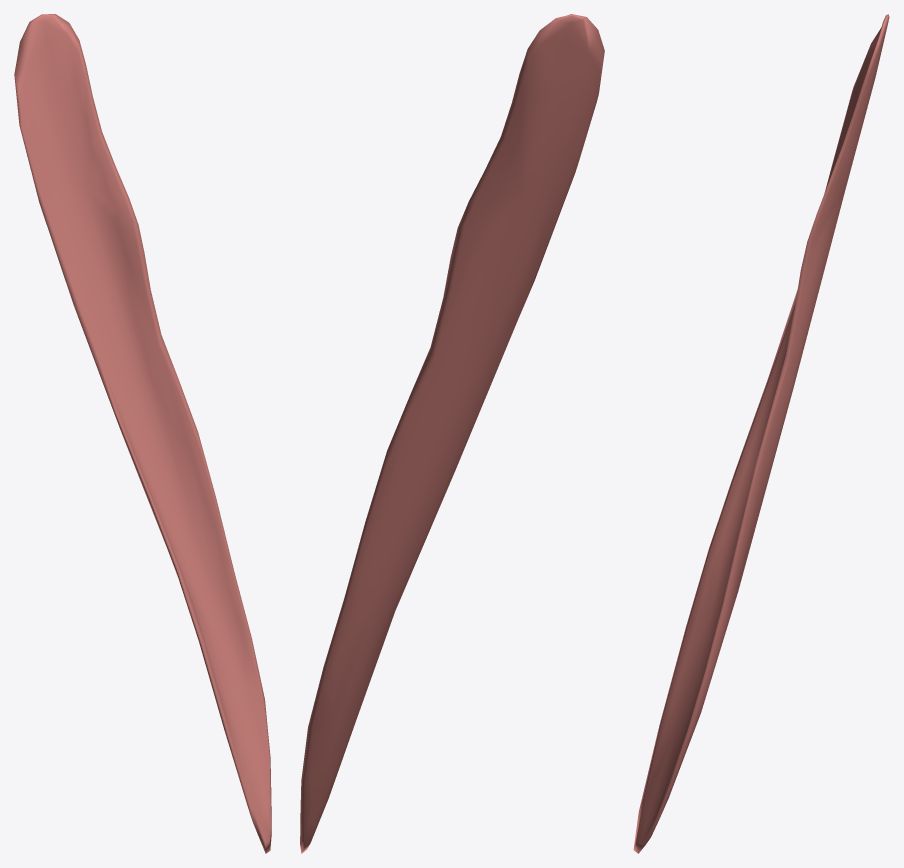
3 views of the same model, side by side, from view 1: azimuth 30°, elevation 25°; view 2: azimuth 210°, elevation 25°; view 3: azimuth 270°, elevation 25° (orthographic). The views are drawn at different scales.
Parts seen in each view (by area): view 1: ZA_f4b5576eaedeea2b; view 2: ZA_f4b5576eaedeea2b; view 3: ZA_f4b5576eaedeea2b.
Part boxes in pixels (<box>): ZA_f4b5576eaedeea2b: <box>14,14,271,853</box>; ZA_f4b5576eaedeea2b: <box>300,14,604,853</box>; ZA_f4b5576eaedeea2b: <box>633,14,889,853</box>.
Bounding box in the file's own units: 0.0165 × 0.0741 × 0.0219.
